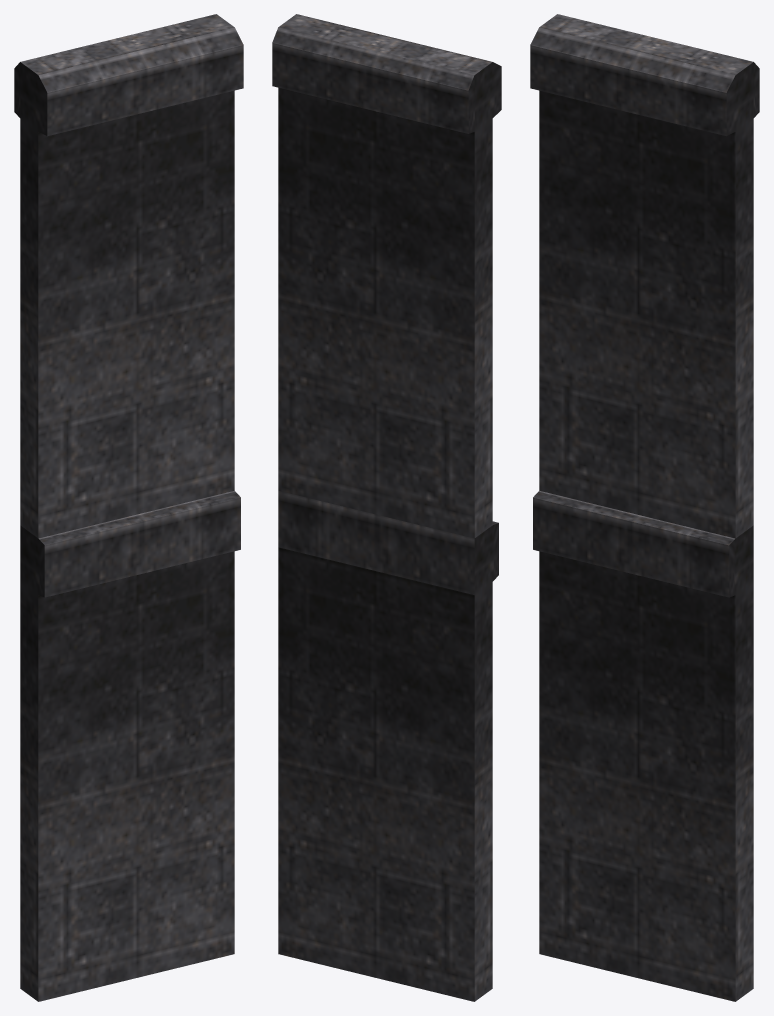
3 renders of one model, left to right at view 1: azimuth 30°, elevation 25°; view 2: azimuth 150°, elevation 25°; view 3: azimuth 330°, elevation 25°, orthographic.
Visible parts, largest first — view 1: a110; view 2: a110; view 3: a110.
Boxes of the visible parts, bbox=[...] form: a110: bbox=[14, 14, 243, 1001]; a110: bbox=[272, 14, 501, 1001]; a110: bbox=[530, 14, 759, 1001].
Bounding box in the file's own units: 228 × 1028 × 66.94.
1 material, 1 textured.
